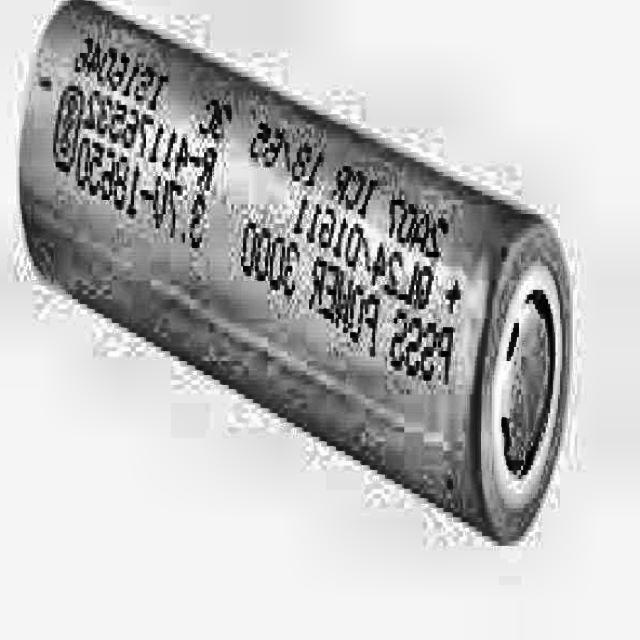battery: (22, 0, 572, 541)
